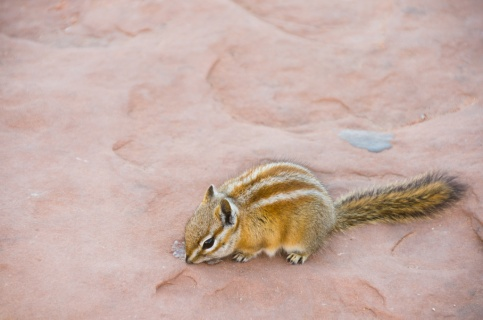Squirrel: (184, 154, 468, 265)
